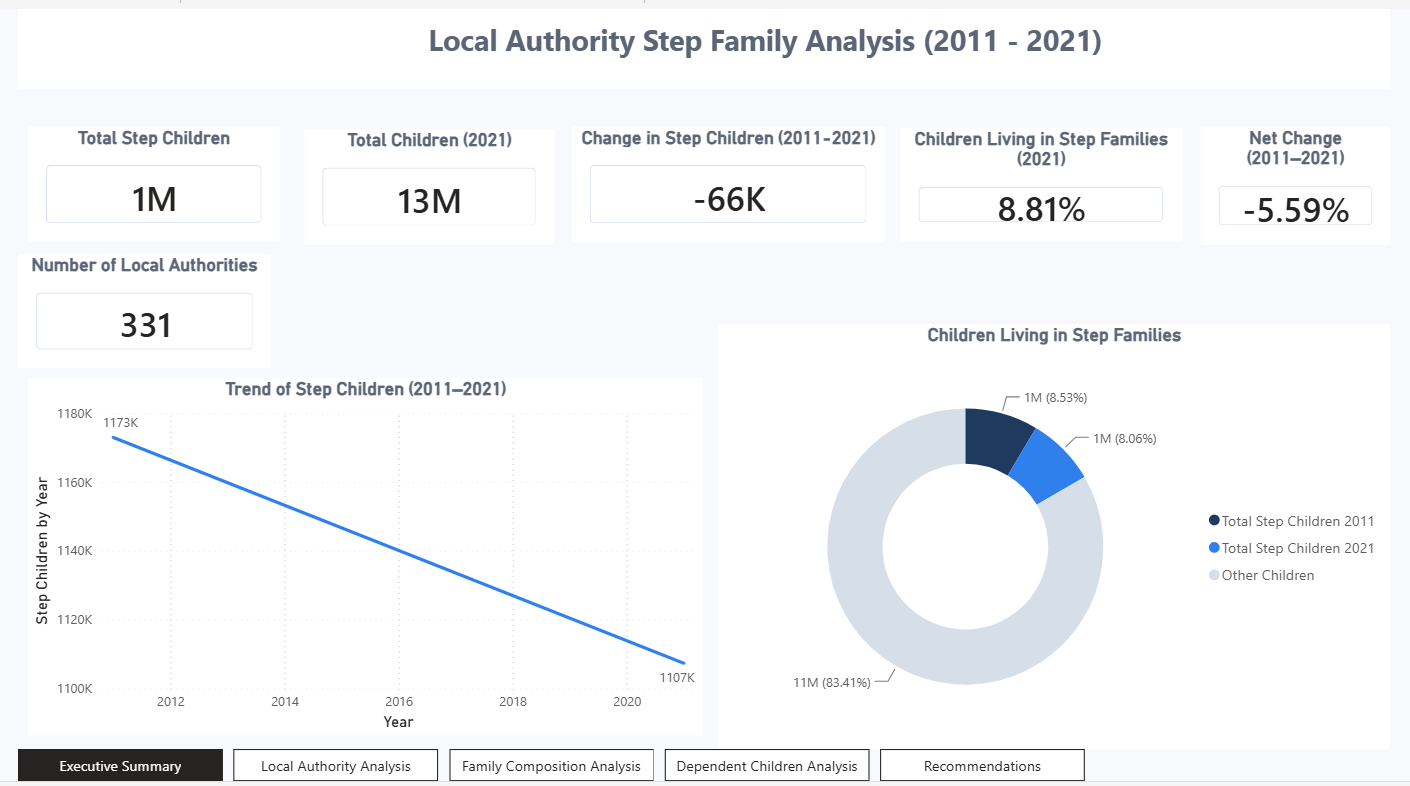

What the dashboard file says about the page in this screenshot:
{"tool":"powerbi","page":{"name":"Executive Summary","canvas":[1280,720],"ordinal":0},"visuals":[{"type":"textbox","title":"Local Authority Step Family Analysis (2011-2021)","box":[0,0,1280.3,74.6],"z":0},{"type":"cardVisual","title":"Total Step Children","fields":{"Data":["Dependent Children Analysis.Total Step Children 2021"]},"box":[0,110.1,244.6,107.6],"z":1000},{"type":"cardVisual","title":"Total Children (2021)","fields":{"Data":["Dependent Children Analysis.Total Children 2021"]},"box":[266.6,112.5,233.6,107.6],"z":2000},{"type":"cardVisual","title":"Children Living in Step Families (2021)","fields":{"Data":["Dependent Children Analysis.Step Family Rate 2021"]},"box":[823,111.3,262.9,106.4],"z":3000},{"type":"cardVisual","title":"Change in Step Children (2011-2021)","fields":{"Data":["Dependent Children Analysis.Growth"]},"box":[516,110.1,292.3,107.6],"z":4000},{"type":"cardVisual","title":"Net Change (2011–2021)","fields":{"Data":["Dependent Children Analysis.Growth percentage"]},"box":[1102.7,110.1,177.6,110.1],"z":5000},{"type":"cardVisual","title":"Number of Local Authorities","fields":{"Data":["Dependent Children Analysis.Total Local Authorities"]},"box":[0,228.7,236,106.4],"z":6000},{"type":"lineChart","title":"Trend of Step Children (2011–2021)","fields":{"Category":["Year.Year"],"Y":["Dependent Children Analysis.Step Children by Year"]},"box":[9.8,343.6,629.8,333.8],"z":7000},{"type":"donutChart","title":"Children Living in Step Families","fields":{"Y":["Household Children Analysis.Total Step Children 2011","Household Children Analysis.Total Step Children 2021","Dependent Children Analysis.Other Children"]},"box":[652.5,293.2,627.8,396.5],"z":8000},{"type":"pageNavigator","box":[0,689.7,999.4,30.3],"z":9000}]}

Visuals, with their boxes in screenshot pixels (x1, y1, x2, y2), scaled from the page's 1280x720 canvas onto the 1410x786 screenshot:
"Local Authority Step Family Analysis (2011-2021)" textbox: detection(0, 0, 1409, 81)
"Total Step Children" cardVisual: detection(0, 120, 269, 238)
"Total Children (2021)" cardVisual: detection(294, 123, 551, 240)
"Children Living in Step Families (2021)" cardVisual: detection(907, 122, 1196, 238)
"Change in Step Children (2011-2021)" cardVisual: detection(568, 120, 890, 238)
"Net Change (2011–2021)" cardVisual: detection(1215, 120, 1409, 240)
"Number of Local Authorities" cardVisual: detection(0, 250, 260, 366)
"Trend of Step Children (2011–2021)" lineChart: detection(11, 375, 705, 739)
"Children Living in Step Families" donutChart: detection(719, 320, 1409, 753)
pageNavigator: detection(0, 753, 1101, 785)
